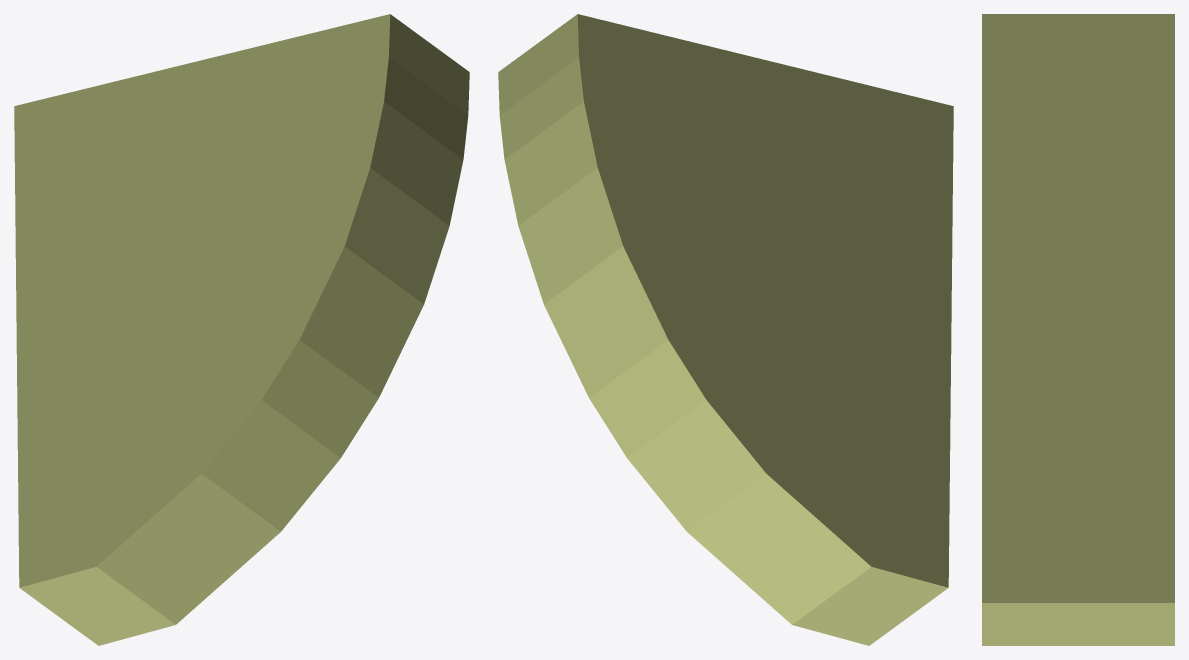
3 renders of one model, left to right at view 1: azimuth 30°, elevation 25°; view 2: azimuth 150°, elevation 25°; view 3: azimuth 270°, elevation 25°, orthographic. The views are drawn at different scales.
Parts seen in each view (by area): view 1: 0_2_0_1_2_1_2_0_2; view 2: 0_2_0_1_2_1_2_0_2; view 3: 0_2_0_1_2_1_2_0_2.
Boxes of the visible parts, <box> form: 0_2_0_1_2_1_2_0_2: <box>14,14,469,645</box>; 0_2_0_1_2_1_2_0_2: <box>498,14,953,645</box>; 0_2_0_1_2_1_2_0_2: <box>982,14,1174,645</box>.
Size of the model in its own units: 16.39 by 20.13 by 6.
